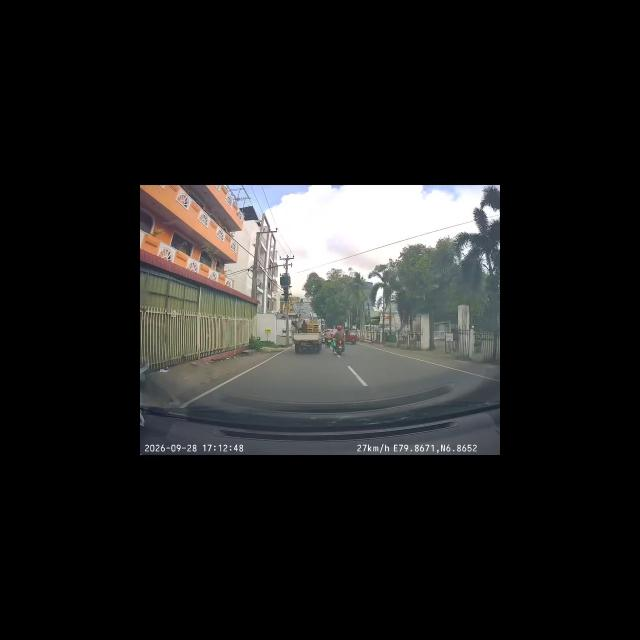broken_line: (336, 360, 376, 394)
helmet: (336, 326, 342, 332)
motorcycle: (329, 338, 346, 352)
person: (337, 326, 345, 344)
three_wheeler: (349, 328, 358, 344)
truck: (299, 320, 321, 348)
